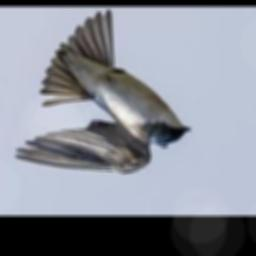Swallow: (15, 11, 191, 173)
